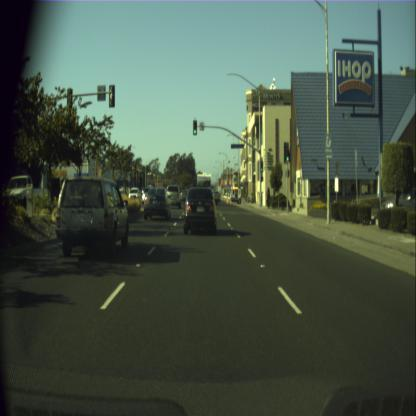Green: (286, 148, 289, 161), (193, 122, 196, 134), (260, 162, 262, 171)
